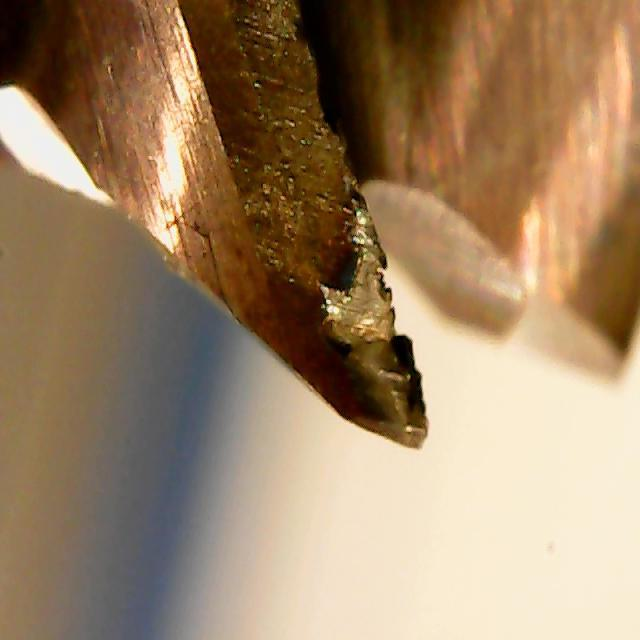Tool-wear-class-3: (270, 198, 439, 492)
